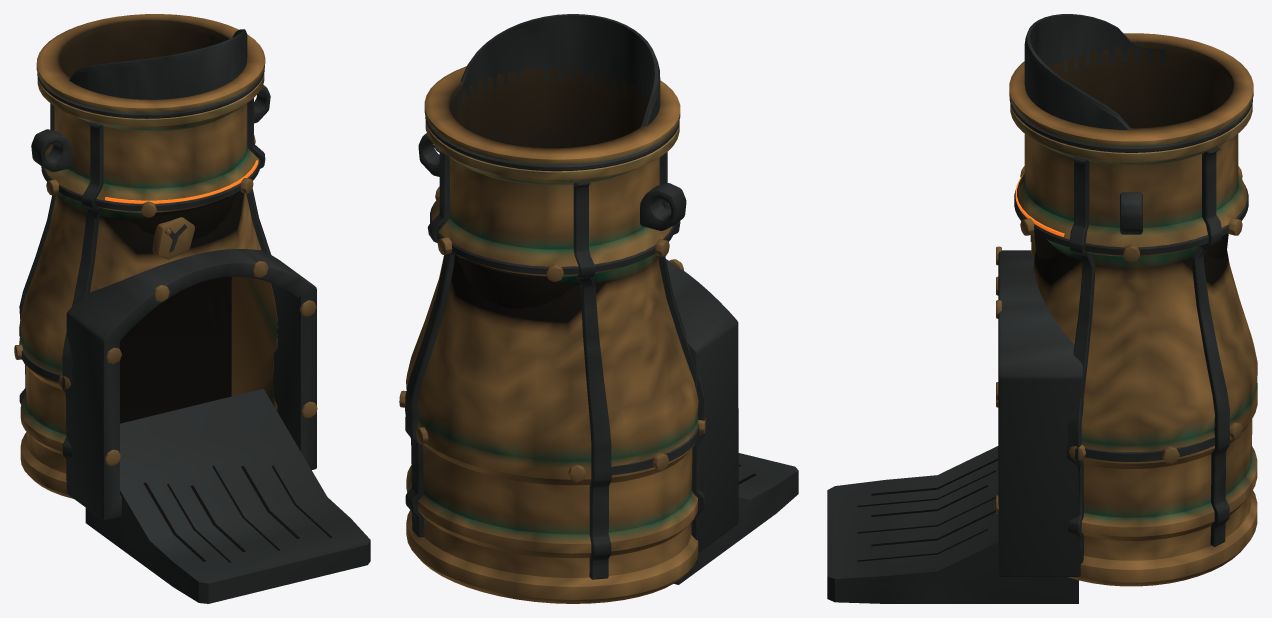
Rendered from cinderbell.glb.
The picture shows the model from 3 angles, left to right: view 1: azimuth 30°, elevation 25°; view 2: azimuth 150°, elevation 25°; view 3: azimuth 270°, elevation 25°; orthographic projection. The views are drawn at different scales.
Visible parts, largest first — view 1: towerSkinCinderBodyMaterial4, towerSkinCinderBodyMaterial3, towerSkinCinderApronMaterial1, towerSkinCinderBodyMaterial5, towerSkinCinderApronMaterial0, towerSkinCinderBodyMaterial2; view 2: towerSkinCinderBodyMaterial4, towerSkinCinderBodyMaterial3, towerSkinCinderApronMaterial1, towerSkinCinderBodyMaterial5, towerSkinCinderBodyLowerBeltMaterial6; view 3: towerSkinCinderBodyMaterial4, towerSkinCinderBodyMaterial3, towerSkinCinderApronMaterial1, towerSkinCinderBodyMaterial5, towerSkinCinderApronMaterial0, towerSkinCinderBodyLowerBeltMaterial6.
Boxes of the visible parts, <box> form: towerSkinCinderBodyMaterial4: <box>20,14,277,498</box>; towerSkinCinderBodyMaterial3: <box>19,29,316,520</box>; towerSkinCinderApronMaterial1: <box>85,388,370,603</box>; towerSkinCinderBodyMaterial5: <box>14,135,317,465</box>; towerSkinCinderApronMaterial0: <box>143,465,332,562</box>; towerSkinCinderBodyMaterial2: <box>105,160,258,203</box>; towerSkinCinderBodyMaterial4: <box>406,66,698,603</box>; towerSkinCinderBodyMaterial3: <box>405,14,738,579</box>; towerSkinCinderApronMaterial1: <box>674,453,798,584</box>; towerSkinCinderBodyMaterial5: <box>399,186,738,482</box>; towerSkinCinderBodyLowerBeltMaterial6: <box>405,402,699,475</box>; towerSkinCinderBodyMaterial4: <box>1009,33,1257,586</box>; towerSkinCinderBodyMaterial3: <box>998,14,1252,576</box>; towerSkinCinderApronMaterial1: <box>827,446,1078,603</box>; towerSkinCinderBodyMaterial5: <box>996,166,1242,513</box>; towerSkinCinderApronMaterial0: <box>857,458,998,561</box>; towerSkinCinderBodyLowerBeltMaterial6: <box>1085,437,1214,461</box>.
Bounding box in the file's own units: 6.36 × 11.96 × 9.
